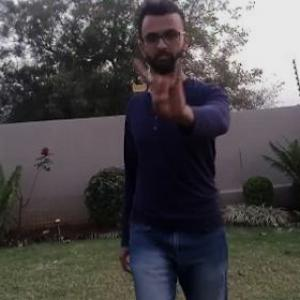takeoff-hand: (136, 61, 192, 119)
